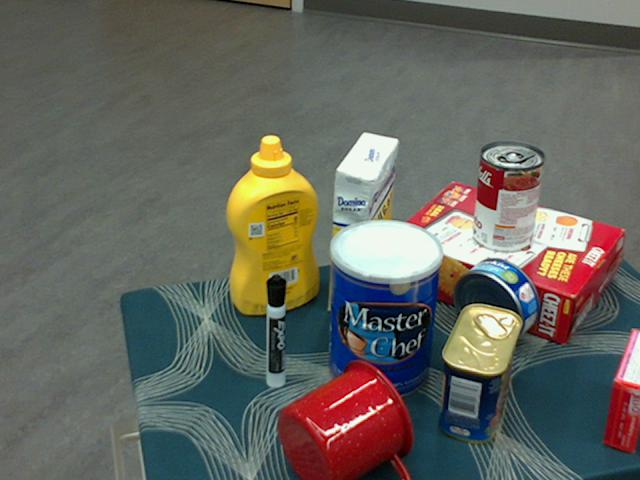cracker_box: (386, 184, 621, 341)
gelatin_box: (601, 329, 639, 453)
large_marker: (263, 274, 284, 389)
master_chef_can: (329, 219, 444, 402)
mug: (277, 359, 415, 479)
mustard_bottle: (225, 135, 319, 315)
potted_meat_can: (439, 304, 522, 443)
sugar_box: (326, 133, 399, 320)
tomato_soup_can: (473, 143, 544, 254)
tuna_fish_can: (454, 257, 541, 344)
